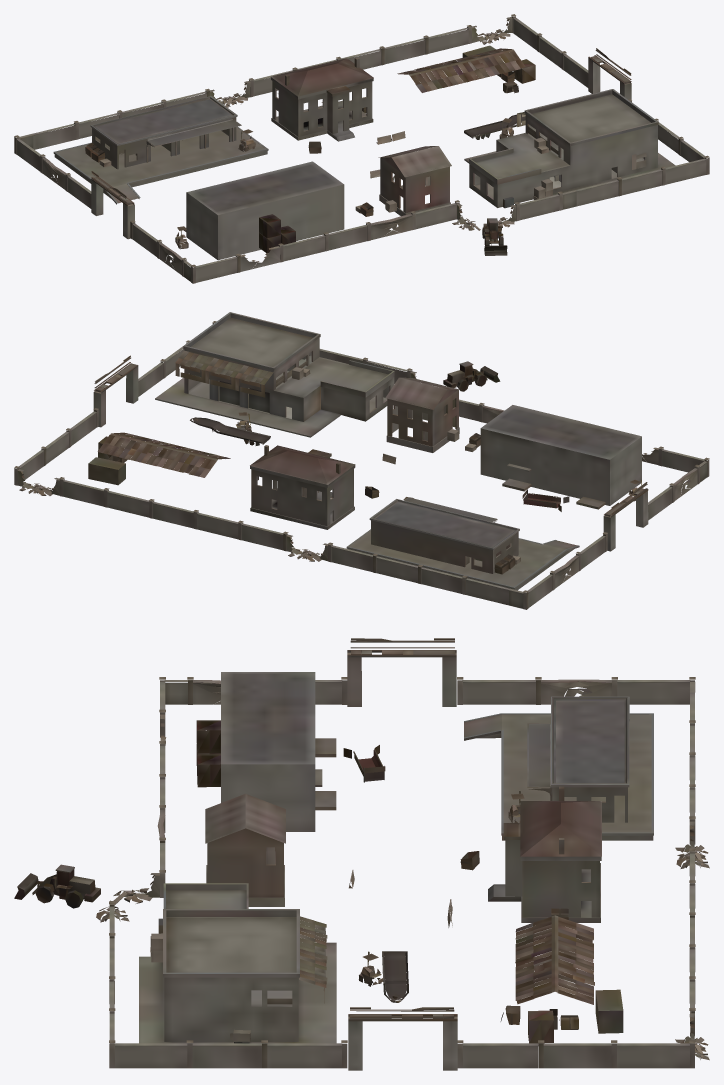
Rendered from radtown_1-map.glb.
3 renders of one model, top to bottom at view 1: azimuth 30°, elevation 25°; view 2: azimuth 150°, elevation 25°; view 3: azimuth 270°, elevation 25°, orthographic. The views are drawn at different scales.
Parts seen in each view (by area): view 1: HLOD; view 2: HLOD; view 3: HLOD.
Part boxes in pixels (x1=…): HLOD: x1=14, y1=14, x2=709, y2=283; HLOD: x1=14, y1=312, x2=709, y2=609; HLOD: x1=14, y1=638, x2=709, y2=1070.
Size of the model in its own units: 104 by 11.32 by 82.75.
1 material, 1 textured.
